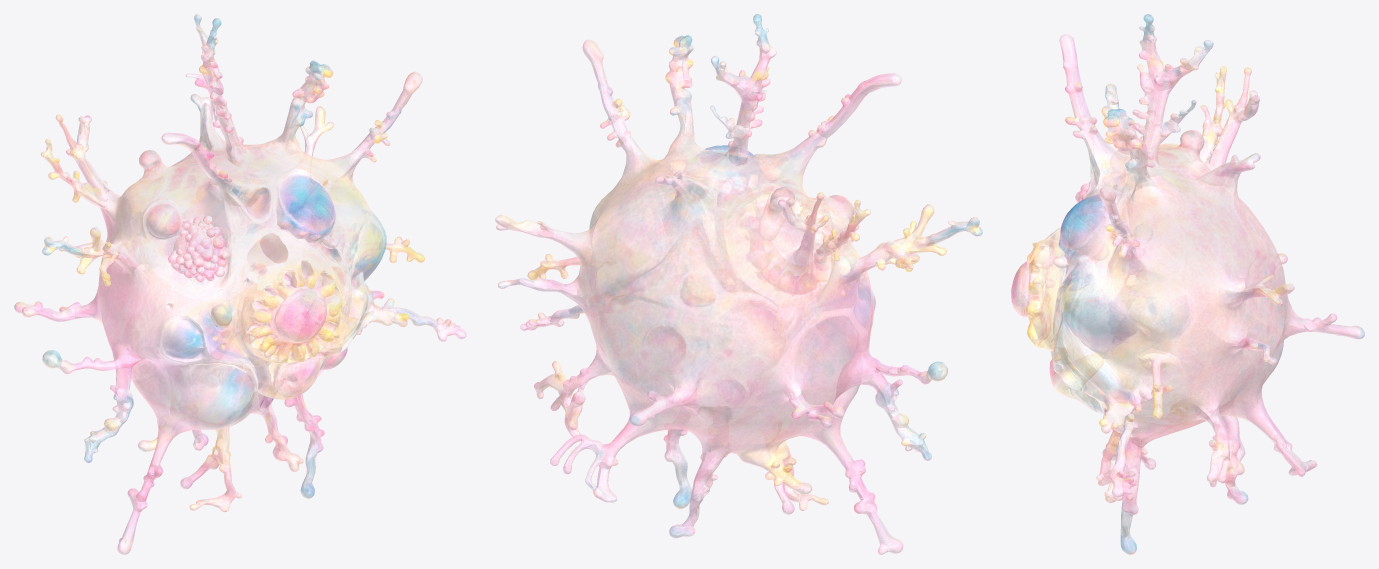
The model's file is cell04.glb.
3 views of the same model, side by side, from view 1: azimuth 30°, elevation 25°; view 2: azimuth 150°, elevation 25°; view 3: azimuth 270°, elevation 25° (orthographic). The views are drawn at different scales.
Parts seen in each view (by area): view 1: Mesh_0; view 2: Mesh_0; view 3: Mesh_0.
Part boxes in pixels (x1=…): Mesh_0: x1=14, y1=14, x2=466, y2=554; Mesh_0: x1=495, y1=14, x2=982, y2=554; Mesh_0: x1=1011, y1=14, x2=1364, y2=554.
Bounding box in the file's own units: 1.7 × 1.89 × 1.21.
Materials: 1 (1 with a texture image).
